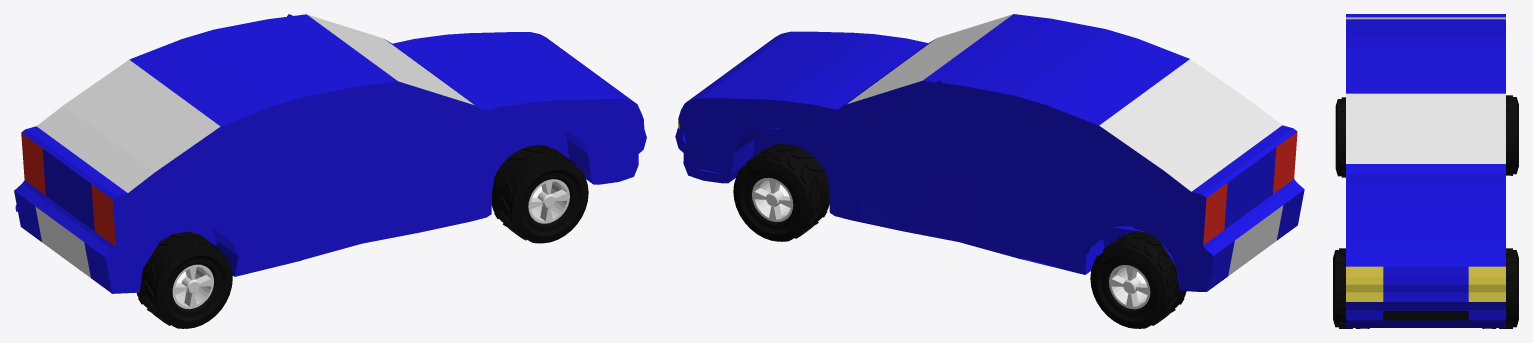
File: autogesamt.fbx
The picture shows the model from 3 angles, left to right: view 1: azimuth 30°, elevation 25°; view 2: azimuth 150°, elevation 25°; view 3: azimuth 270°, elevation 25°; orthographic projection. The views are drawn at different scales.
Parts seen in each view (by area): view 1: Plane.001, Circle.001, Circle; view 2: Plane.001, Circle.002, Circle.003; view 3: Plane.001, Circle.001, Circle.002, Circle.003, Circle.
Boxes of the visible parts, bbox=[...] form: Plane.001: bbox=[14, 14, 646, 293]; Circle.001: bbox=[492, 145, 588, 243]; Circle: bbox=[136, 231, 232, 328]; Plane.001: bbox=[675, 14, 1304, 291]; Circle.002: bbox=[733, 144, 829, 241]; Circle.003: bbox=[1090, 231, 1186, 328]; Plane.001: bbox=[1346, 14, 1505, 327]; Circle.001: bbox=[1333, 248, 1369, 328]; Circle.002: bbox=[1482, 248, 1518, 328]; Circle.003: bbox=[1506, 95, 1518, 175]; Circle: bbox=[1335, 97, 1345, 177].
Bounding box in the file's own units: 936 × 333 × 318.
